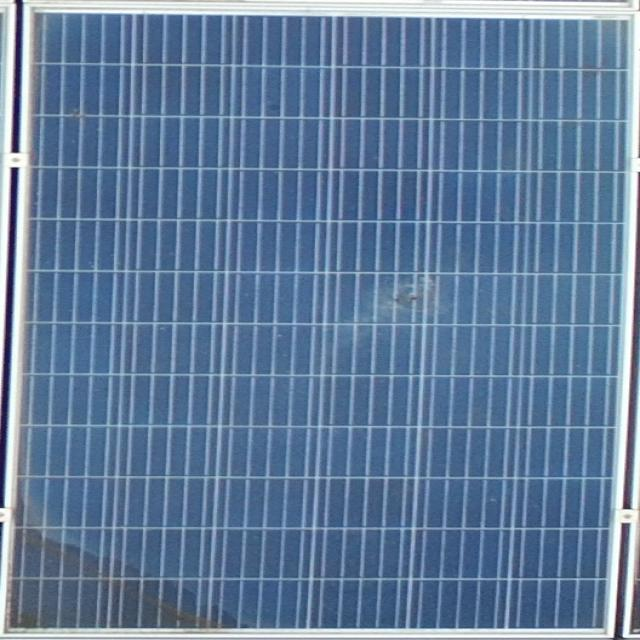Dust: (17, 501, 248, 637)
bird-droppings: (381, 276, 450, 317), (55, 101, 99, 129)
